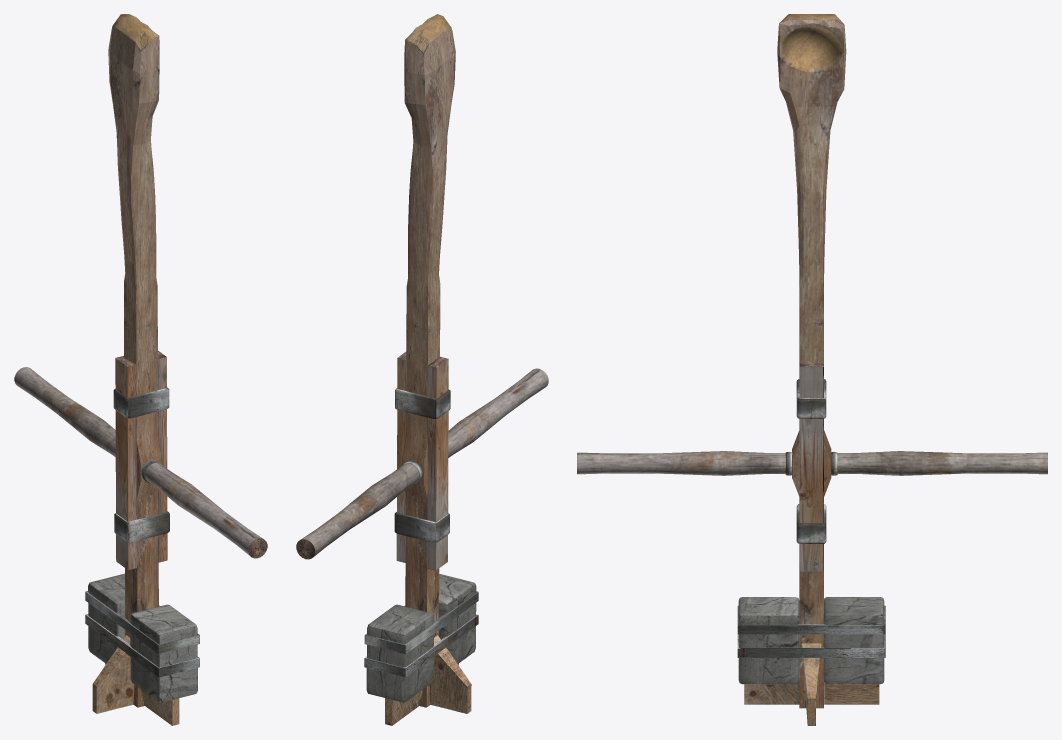
File: catapult_arm.obj
The picture shows the model from 3 angles, left to right: view 1: azimuth 30°, elevation 25°; view 2: azimuth 150°, elevation 25°; view 3: azimuth 270°, elevation 25°; orthographic projection.
Visible parts, largest first — view 1: limb; view 2: limb; view 3: limb.
Part boxes in pixels (x1,y1,x2,y2): limb: (14, 14, 267, 725); limb: (296, 14, 548, 725); limb: (577, 14, 1047, 725).
Bounding box in the file's own units: 32.84 × 224 × 140.
